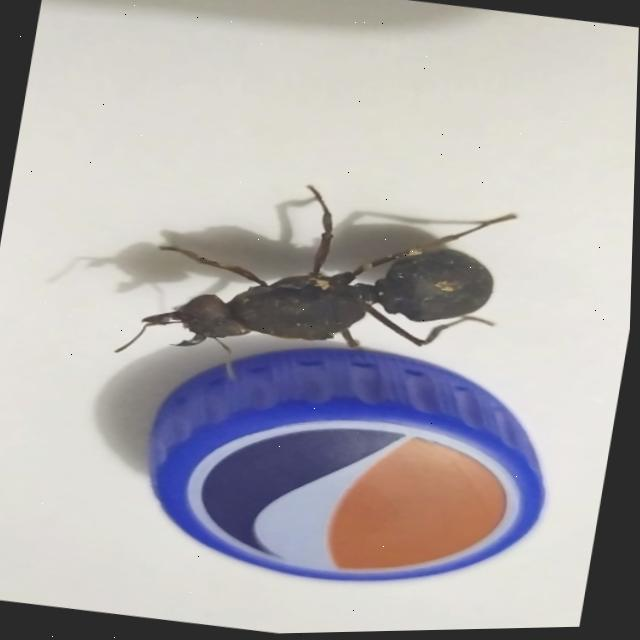Alive-Female-Dealate: (112, 159, 521, 419)
